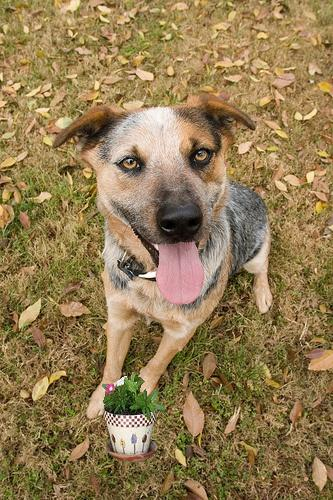tampered: (103, 373, 165, 462)
